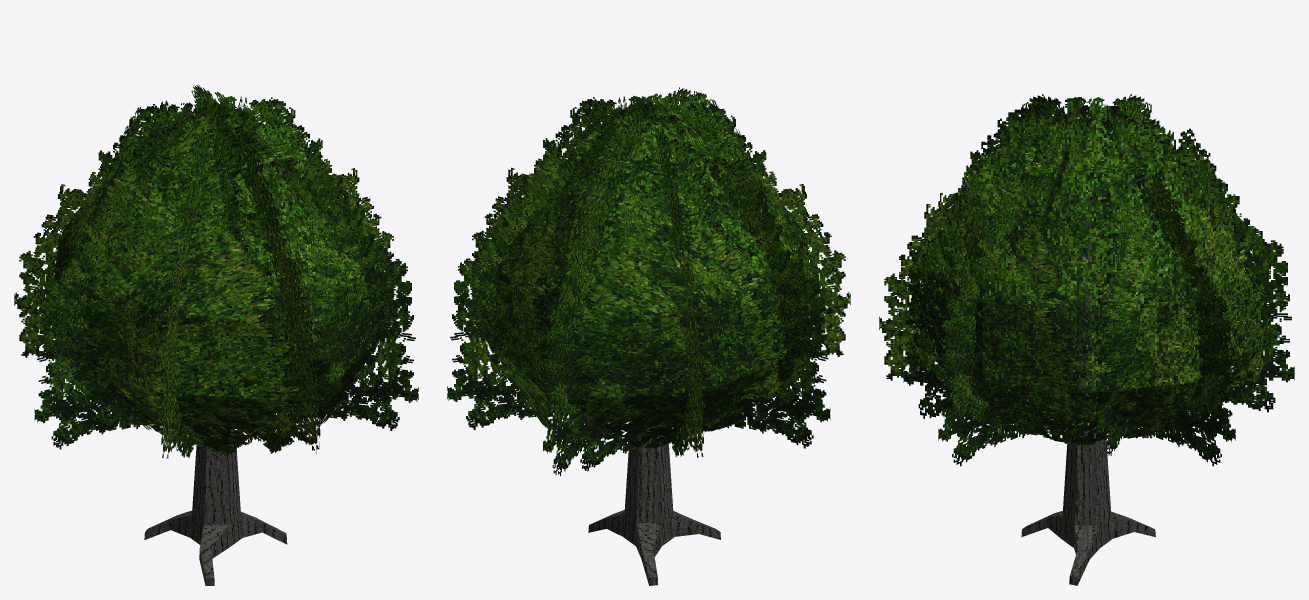
File: tree01_summer.glb
The picture shows the model from 3 angles, left to right: view 1: azimuth 30°, elevation 25°; view 2: azimuth 150°, elevation 25°; view 3: azimuth 270°, elevation 25°; orthographic projection.
Parts seen in each view (by area): view 1: tree01; view 2: tree01; view 3: tree01.
Part boxes in pixels (bbox=[...]): tree01: bbox=[14, 84, 418, 585]; tree01: bbox=[447, 87, 850, 585]; tree01: bbox=[879, 94, 1294, 585].
Size of the model in its own units: 6.72 by 8.07 by 6.72.
1 material, 1 textured.
